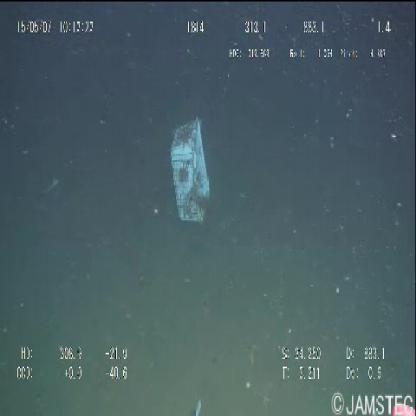Rác: (171, 118, 211, 226)
